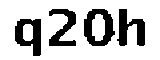0: (83, 7, 115, 51)
2: (45, 7, 79, 52)
h: (118, 8, 147, 50)
q: (12, 15, 45, 60)
